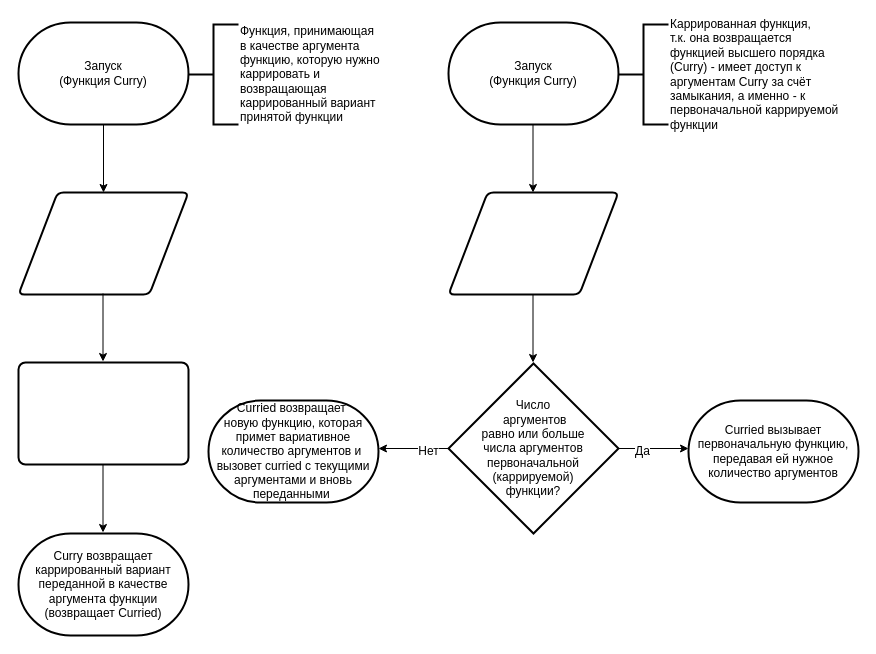
Some shapes in this 876 by 654 pixel diagram are drawn without their labels. The centre of each missing label's shape, as x and y in pixels:
"Curry выполняет необходимые для каррирования операции" goes at (x=103, y=413).
"Принимает вариативное число аргументов" goes at (x=533, y=243).
"Функция, которую нужно каррировать" goes at (x=103, y=243).
